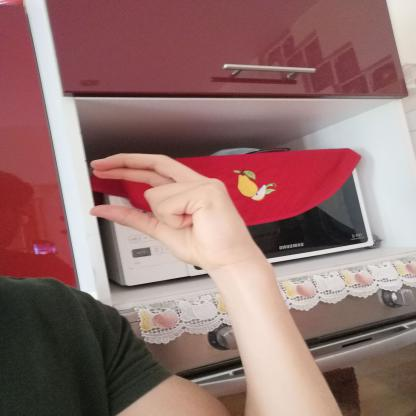DHELL: (79, 145, 255, 272)
